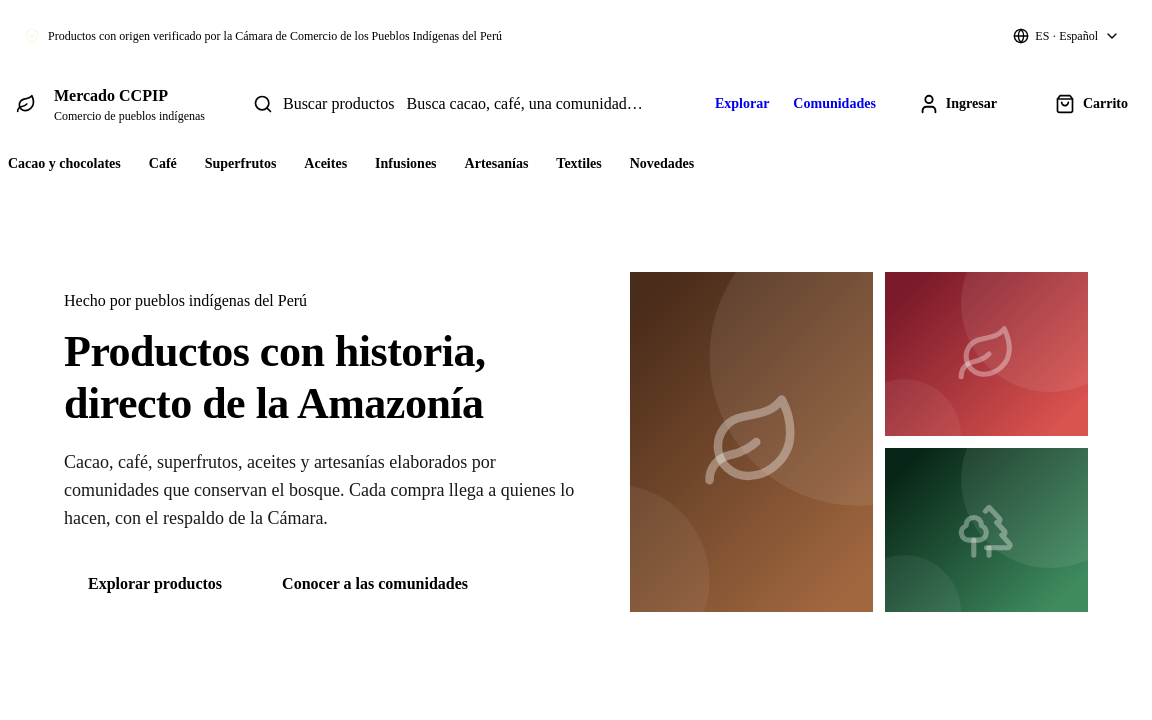
Scenario: Selector de idioma (CCPIP-265) › el menú marca el idioma actual y se cierra con Escape
The width and height of the screenshot is (1152, 720).
Click the button with aria-label "Idioma:" at {"x": 1067, "y": 36}, box [1005,23,1128,49]
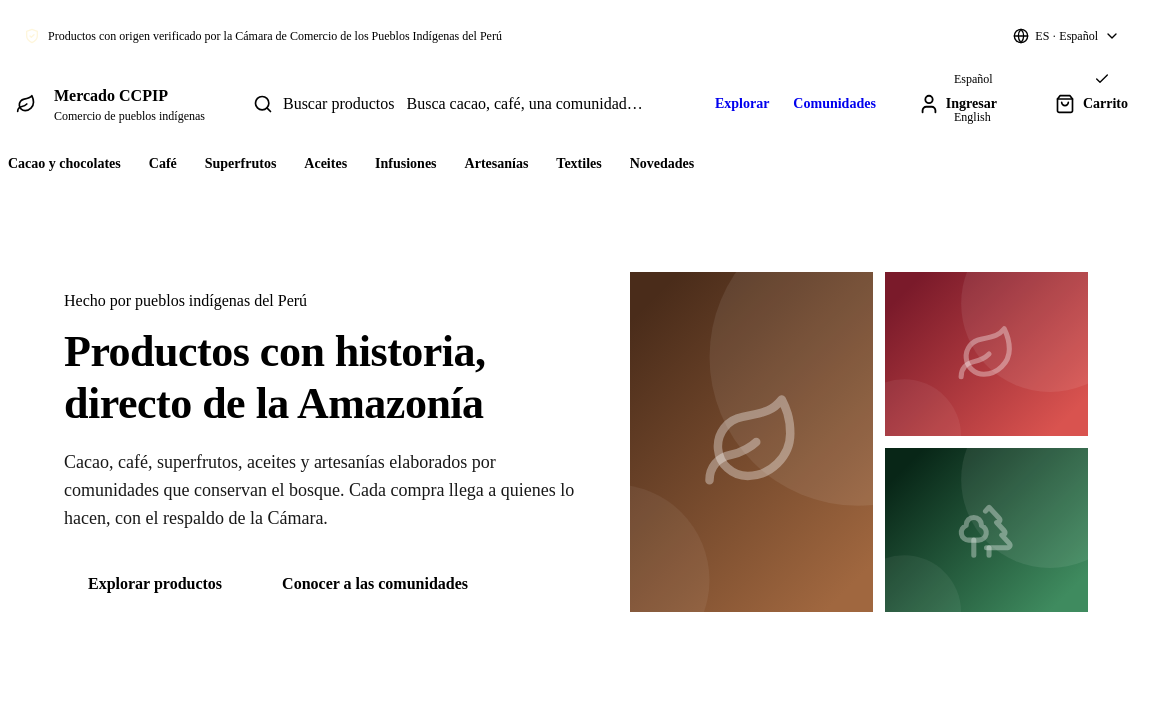
Press Escape
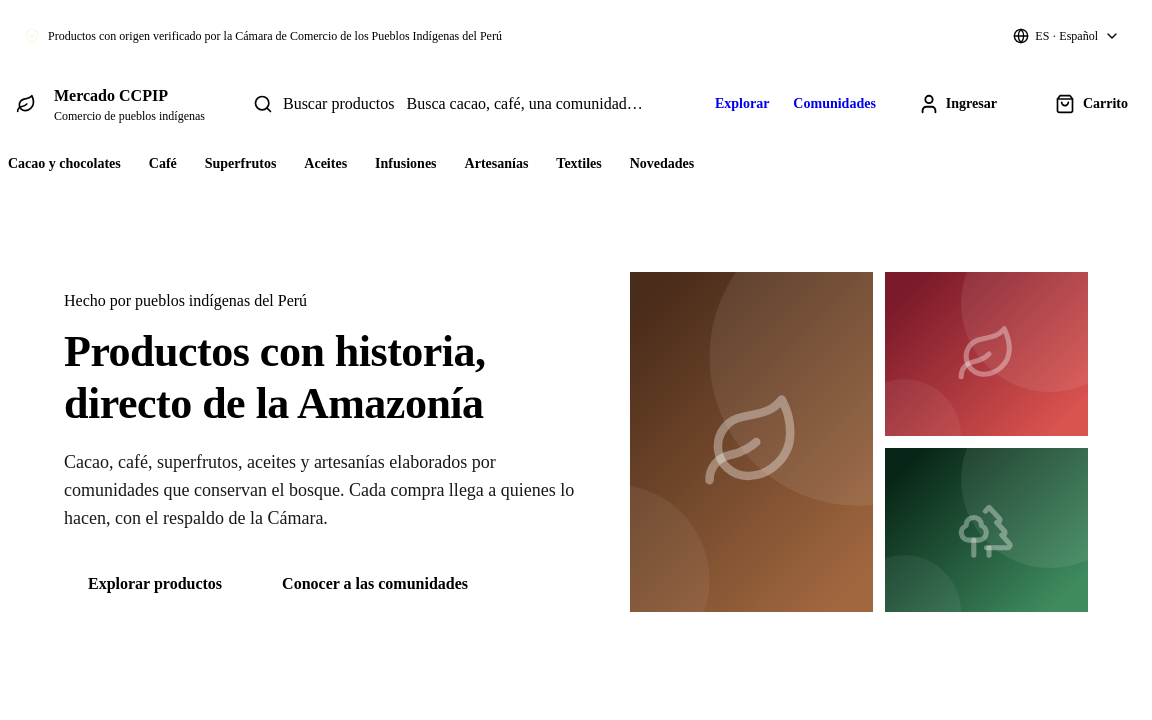
Result: the menu is gone
